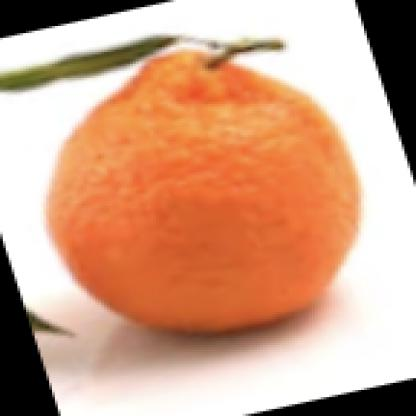orange: (44, 46, 362, 325)
